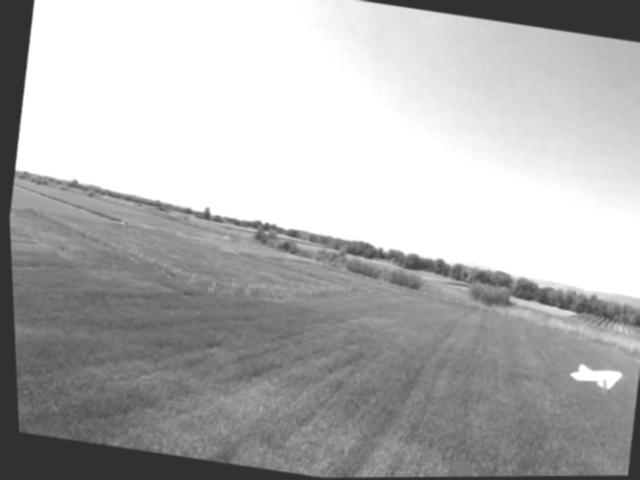hedef: (553, 352, 626, 406)
